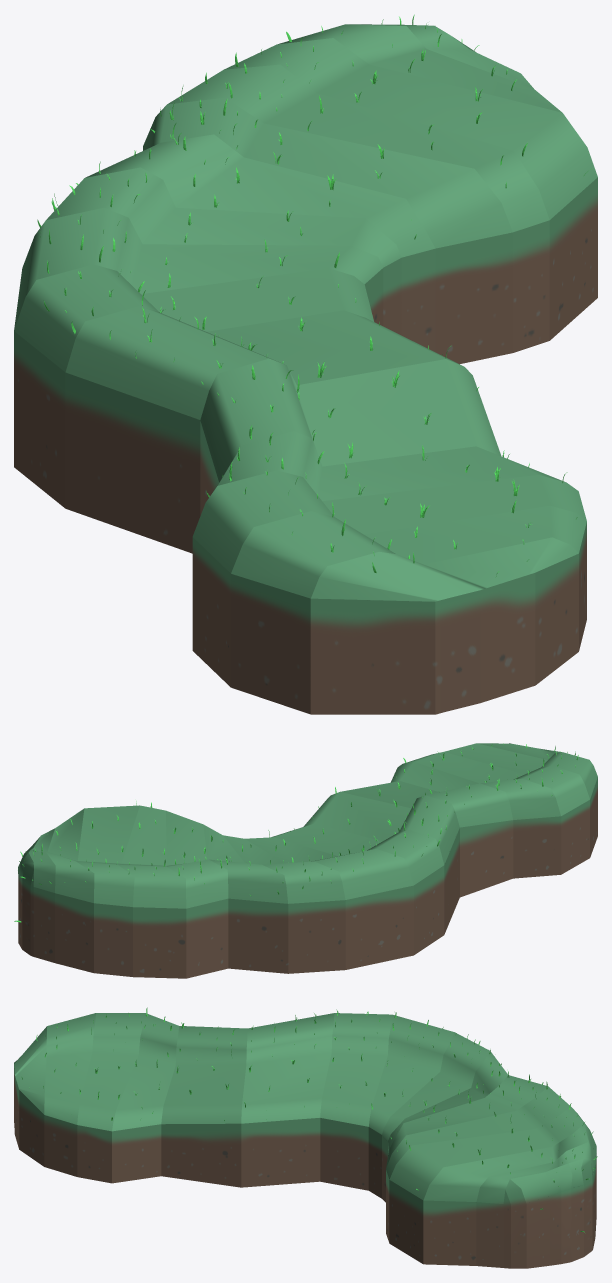
The model's file is Path01 with grass.fbx.
3 renders of one model, top to bottom at view 1: azimuth 30°, elevation 25°; view 2: azimuth 150°, elevation 25°; view 3: azimuth 270°, elevation 25°, orthographic. The views are drawn at different scales.
Parts seen in each view (by area): view 1: pPlane1; view 2: pPlane1; view 3: pPlane1.
Boxes of the visible parts, x1,y1,x2,y2 form: pPlane1: (14, 24, 597, 714); pPlane1: (18, 743, 597, 978); pPlane1: (14, 1013, 596, 1268).
Size of the model in its own units: 1319 by 367 by 1816.
